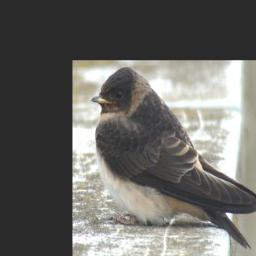Swallow: (90, 65, 256, 252)
